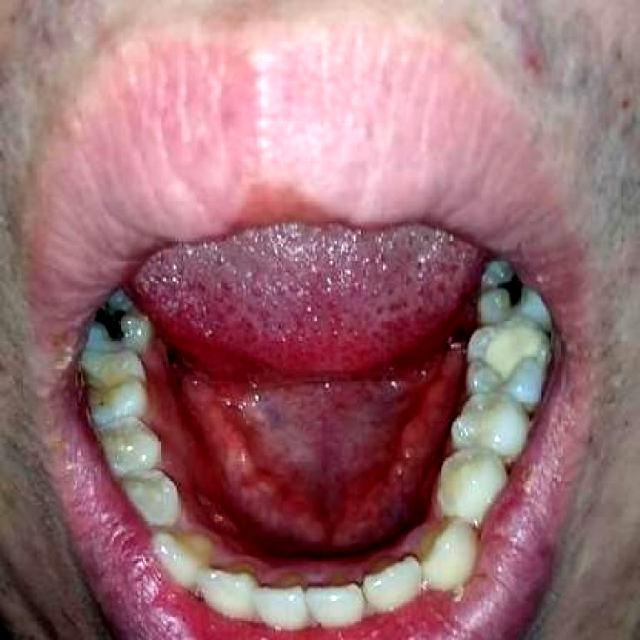Plaque: (95, 395, 110, 410)
